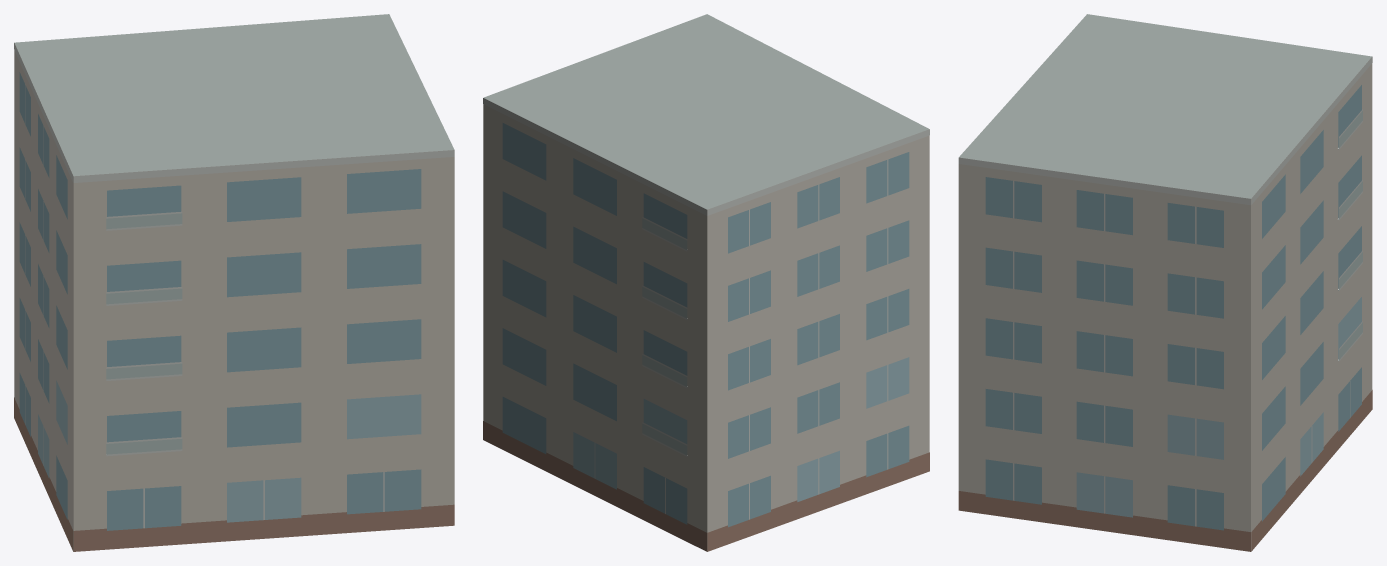
The model's file is survey-upis-32947180.glb.
The picture shows the model from 3 angles, left to right: view 1: azimuth 30°, elevation 25°; view 2: azimuth 150°, elevation 25°; view 3: azimuth 270°, elevation 25°; orthographic projection. The views are drawn at different scales.
Visible parts, largest first — view 1: survey-upis-32947180.tmp; view 2: survey-upis-32947180.tmp; view 3: survey-upis-32947180.tmp.
Boxes of the visible parts, box(x1,y1,x2,y2) form: survey-upis-32947180.tmp: box(14, 14, 454, 551); survey-upis-32947180.tmp: box(483, 14, 929, 551); survey-upis-32947180.tmp: box(958, 14, 1372, 551).
Bounding box in the file's own units: 14.95 × 13.3 × 14.14.
